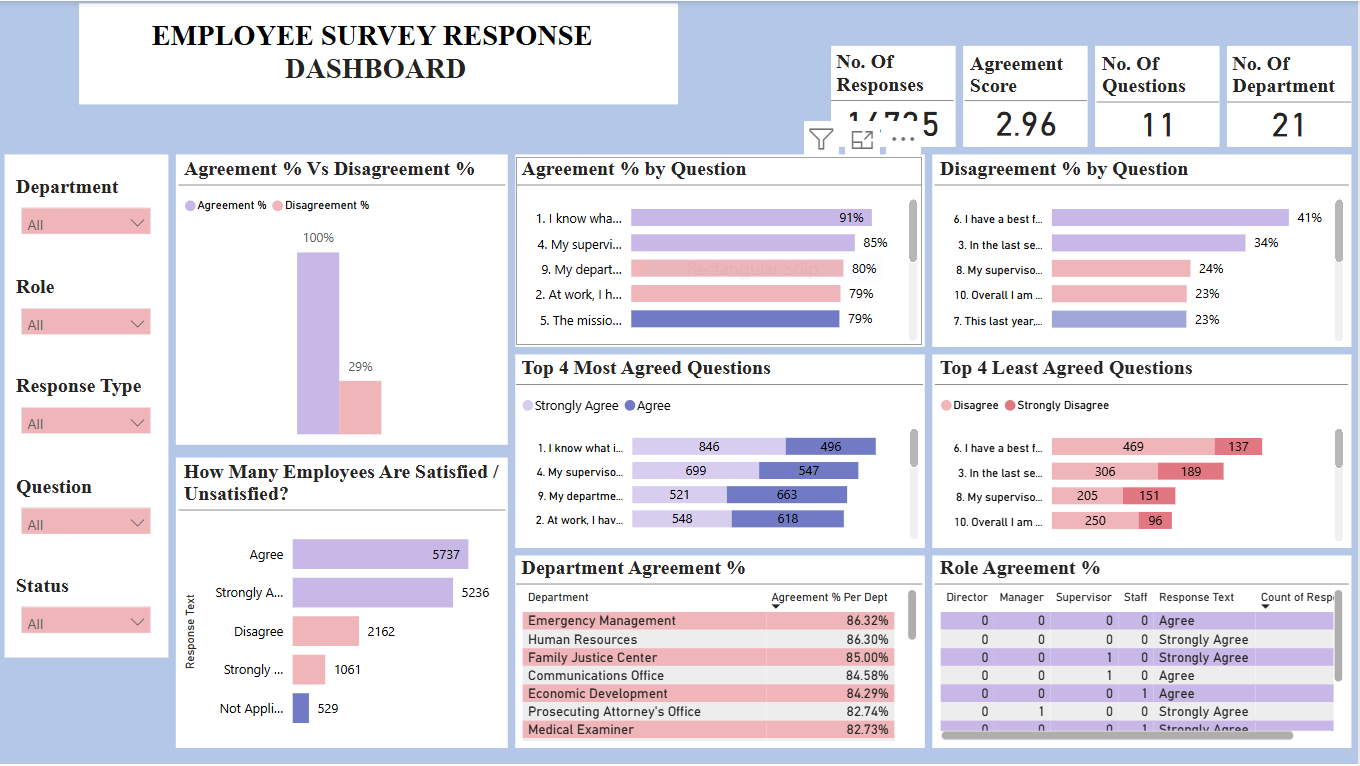

Layout of this report page (visuals, bound fields, positions):
{"tool":"powerbi","page":{"name":"Page 1","canvas":[1280,720],"ordinal":0},"visuals":[{"type":"card","title":"No. Of Responses","fields":{"Values":["CountNonNull(HR Survey Reponses.Response ID)"]},"box":[784,46.4,115.2,84.8],"z":0},{"type":"card","title":"Agreement Score","fields":{"Values":["HR Survey Reponses.Agreement Score Per Question"]},"box":[909,48,115,84],"z":1000},{"type":"card","title":"No. Of Questions","fields":{"Values":["Count(HR Survey Reponses.Question)"]},"box":[1034,48,115,84],"z":2000},{"type":"card","title":"No. Of Department","fields":{"Values":["Count(HR Survey Reponses.Department)"]},"box":[1156,48,116.9,83.5],"z":3000},{"type":"barChart","fields":{"Y":["HR Survey Reponses.Agreement %"],"Category":["HR Survey Reponses.Question"]},"box":[488.3,146.1,382,177],"z":4000},{"type":"barChart","fields":{"Category":["HR Survey Reponses.Question"],"Y":["HR Survey Reponses.Disagreement %"]},"box":[881,146.1,389,177.4],"z":5000},{"type":"tableEx","title":"Department Agreement %","fields":{"Values":["HR Survey Reponses.Department","HR Survey Reponses.Agreement % Per Dept"]},"box":[488,522,381.9,177.4],"z":6000},{"type":"tableEx","title":"Role Agreement %","fields":{"Values":["HR Survey Reponses.Director","HR Survey Reponses.Manager","HR Survey Reponses.Supervisor","HR Survey Reponses.Staff","HR Survey Reponses.Response Text","CountNonNull(HR Survey Reponses.Response ID)"]},"box":[881,522,389,177.4],"z":7000},{"type":"barChart","title":"Top 4 Least Agreed Questions","fields":{"Category":["HR Survey Reponses.Question"],"Y":["CountNonNull(HR Survey Reponses.Response ID)"],"Series":["HR Survey Reponses.Response Text"]},"box":[881,334,388.9,178.2],"z":8000},{"type":"barChart","title":"Top 4 Most Agreed Questions","fields":{"Category":["HR Survey Reponses.Question"],"Y":["CountNonNull(HR Survey Reponses.Response ID)"],"Series":["HR Survey Reponses.Response Text"]},"box":[488.1,334,382.8,176.2],"z":9000},{"type":"clusteredColumnChart","title":"Agreement % Vs Disagreement %","fields":{"Y":["HR Survey Reponses.Agreement %","HR Survey Reponses.Disagreement %"]},"box":[170.1,146.5,307.1,266],"z":10000},{"type":"barChart","title":"How Many Employees Are Satisfied / Unsatisfied?","fields":{"Category":["HR Survey Reponses.Response Text"],"Y":["CountNonNull(HR Survey Reponses.Response ID)"]},"box":[170.1,432,307.1,267],"z":11000},{"type":"slicer","title":"Department","fields":{"Values":["HR Survey Reponses.Department"]},"box":[12.6,163.8,141.8,55.1],"z":12000},{"type":"slicer","title":"Role","fields":{"Values":["HR Survey Reponses.Role Type"]},"box":[12.6,257.5,141.8,55.1],"z":13000},{"type":"slicer","title":"Response Type","fields":{"Values":["HR Survey Reponses.Response Text"]},"box":[12.6,351.2,141.8,55.1],"z":14000},{"type":"slicer","title":"Question","fields":{"Values":["HR Survey Reponses.Question"]},"box":[12.6,445,141.8,55.1],"z":15000},{"type":"slicer","title":"Status","fields":{"Values":["HR Survey Reponses.Status"]},"box":[12.6,538.7,141.8,55.1],"z":16000},{"type":"textbox","box":[82.8,10.9,545.5,78.1],"z":17000}]}

Visuals, with their boxes in screenshot pixels (x1, y1, x2, y2), scaled from the page's 1280x720 canvas onto the 1360x766 screenshot:
"No. Of Responses" card: 833:49:955:140
"Agreement Score" card: 966:51:1088:140
"No. Of Questions" card: 1099:51:1221:140
"No. Of Department" card: 1228:51:1352:140
barChart - HR Survey Reponses.Agreement % x HR Survey Reponses.Question: 519:155:925:344
barChart - HR Survey Reponses.Question x HR Survey Reponses.Disagreement %: 936:155:1349:344
"Department Agreement %" tableEx: 518:555:924:744
"Role Agreement %" tableEx: 936:555:1349:744
"Top 4 Least Agreed Questions" barChart: 936:355:1349:545
"Top 4 Most Agreed Questions" barChart: 519:355:925:543
"Agreement % Vs Disagreement %" clusteredColumnChart: 181:156:507:439
"How Many Employees Are Satisfied / Unsatisfied?" barChart: 181:460:507:744
"Department" slicer: 13:174:164:233
"Role" slicer: 13:274:164:333
"Response Type" slicer: 13:374:164:432
"Question" slicer: 13:473:164:532
"Status" slicer: 13:573:164:632
textbox: 88:12:668:95
